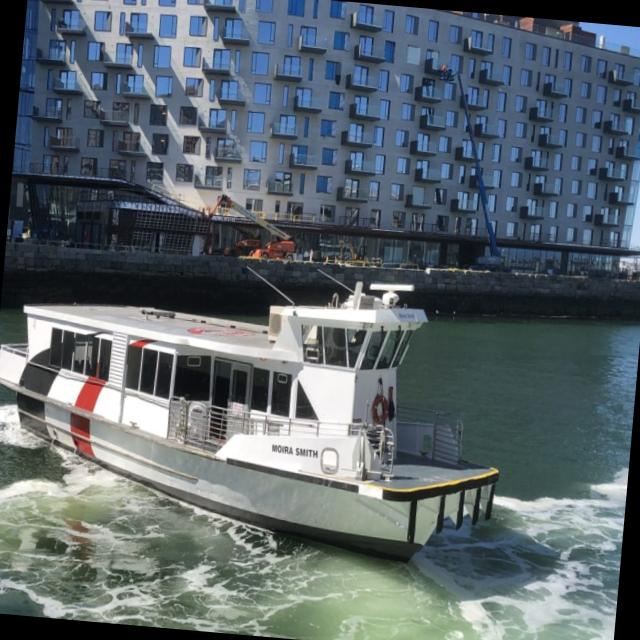boat: (0, 183, 544, 608)
